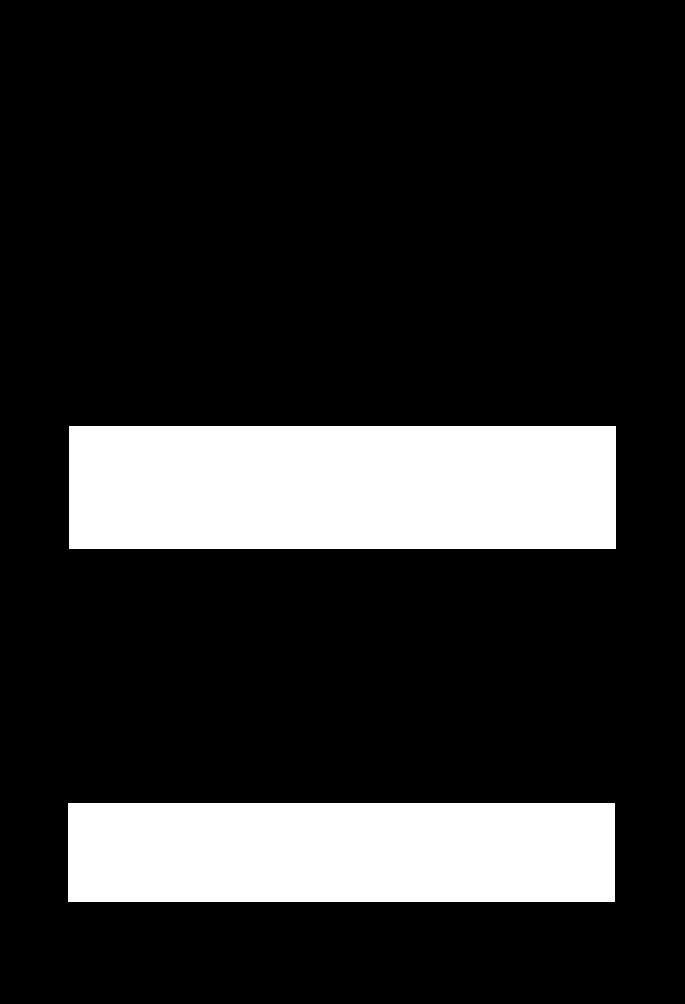table: (69, 426, 615, 548), (68, 803, 614, 901)
